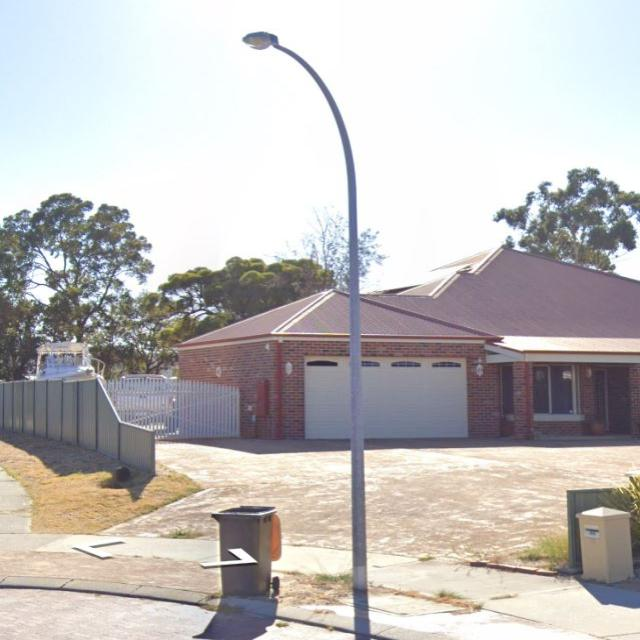steel-pole: (344, 158, 368, 594)
streetlight: (242, 30, 356, 174)
